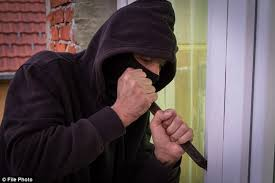crowbar: (114, 66, 208, 170)
